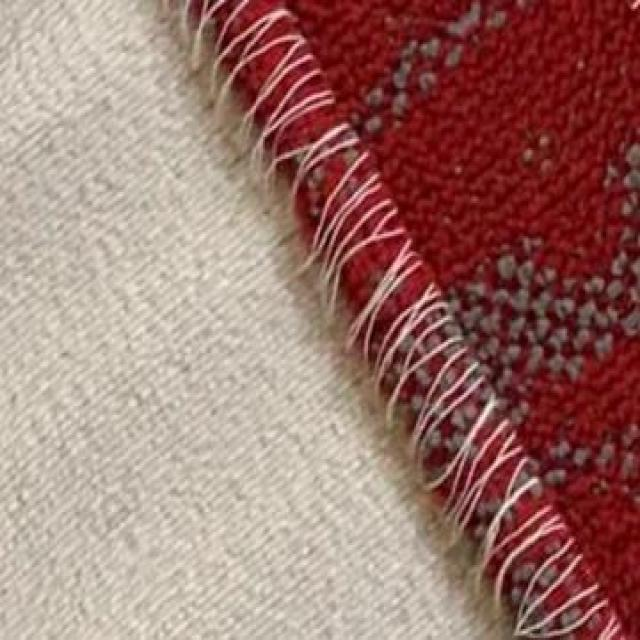gray stitch: (182, 2, 446, 340), (373, 336, 628, 639)
